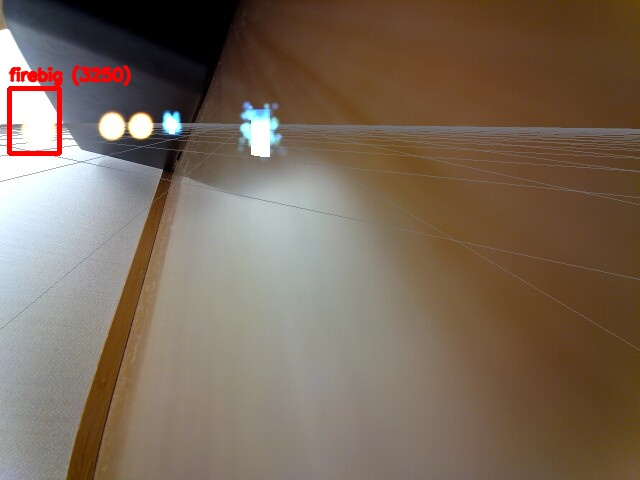firebig: (9, 88, 59, 153)
